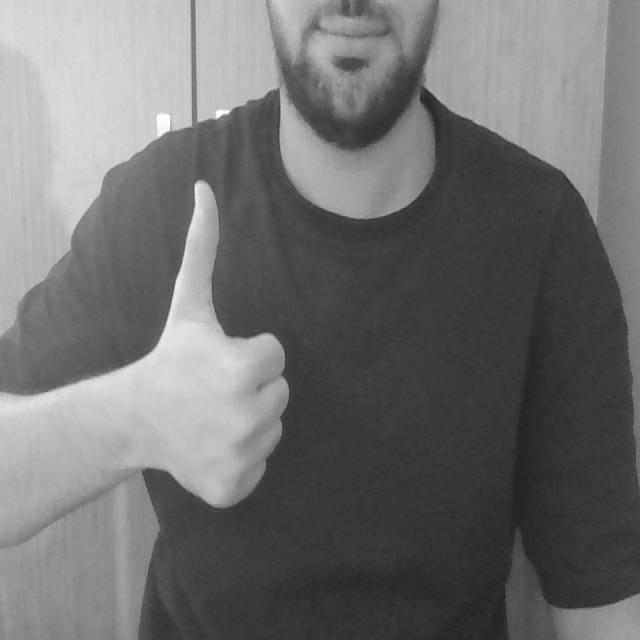Tamam: (142, 168, 295, 518)
